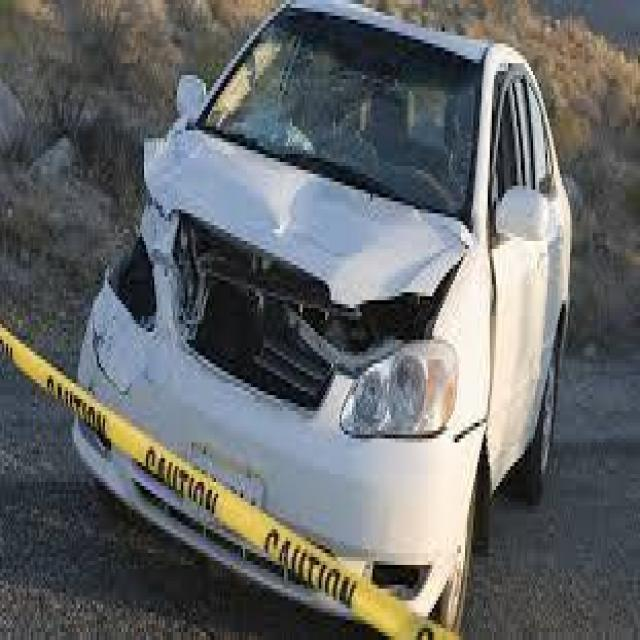damaged: (117, 162, 461, 419)
